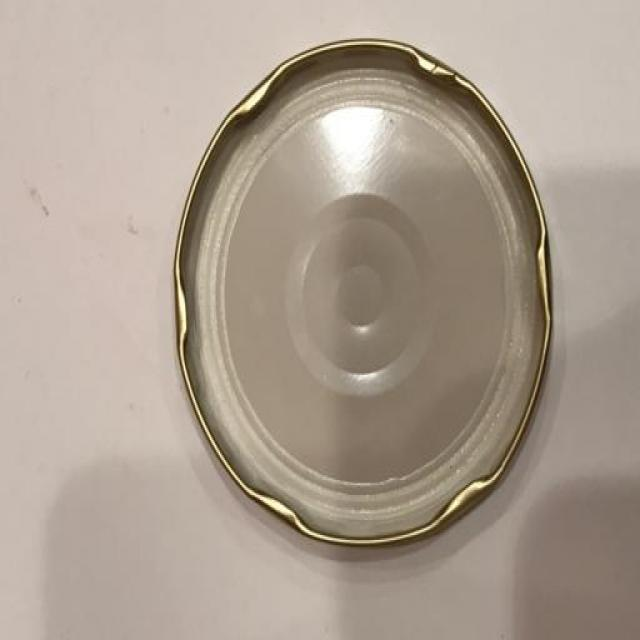metel: (170, 21, 554, 563)
